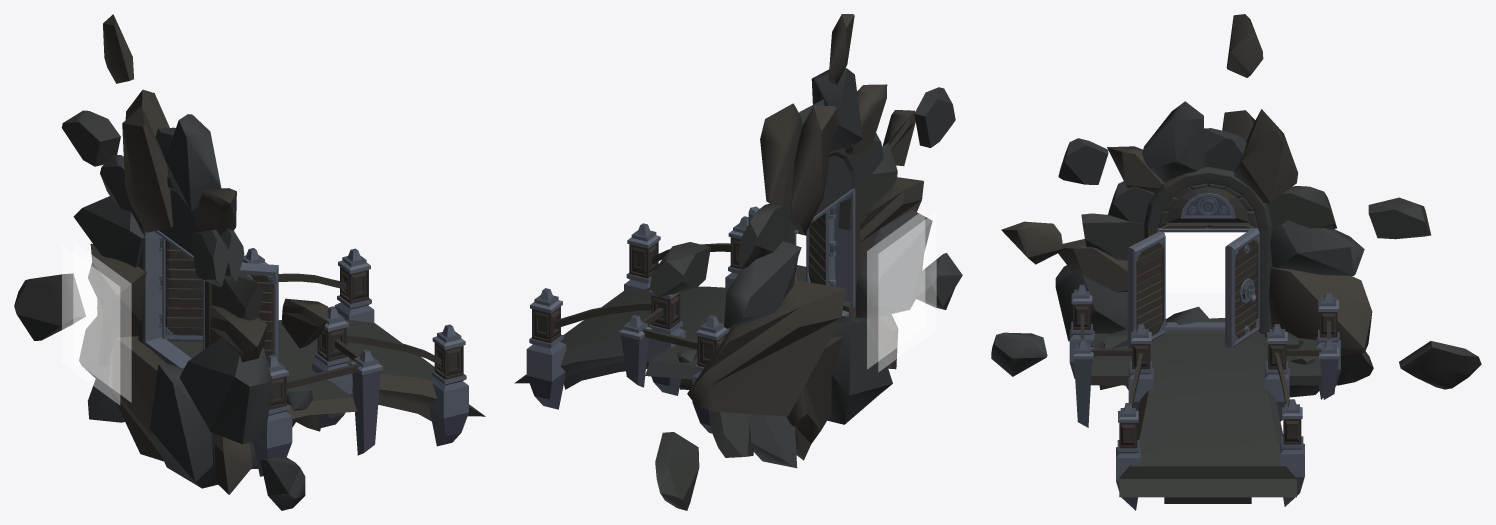
The model's file is potal.glb.
The picture shows the model from 3 angles, left to right: view 1: azimuth 30°, elevation 25°; view 2: azimuth 150°, elevation 25°; view 3: azimuth 270°, elevation 25°; orthographic projection. The views are drawn at different scales.
Parts seen in each view (by area): view 1: Cube.002, Cylinder.000; view 2: Cube.002, Cylinder.000; view 3: Cube.002, Cylinder.000.
Part boxes in pixels (x1=…): Cube.002: x1=14, y1=14, x2=485, y2=510; Cylinder.000: x1=62, y1=242, x2=131, y2=404; Cube.002: x1=514, y1=14, x2=962, y2=510; Cylinder.000: x1=867, y1=209, x2=936, y2=371; Cube.002: x1=991, y1=14, x2=1481, y2=510; Cylinder.000: x1=1164, y1=232, x2=1245, y2=292.
Bounding box in the file's own units: 27.08 × 34.78 × 39.39.
